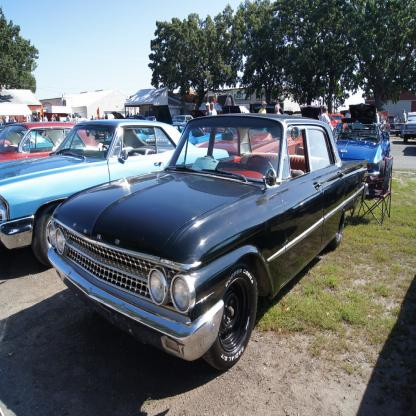Car: (1, 105, 416, 374), (1, 117, 228, 270), (334, 117, 398, 204), (1, 119, 111, 159), (198, 131, 312, 164), (400, 107, 416, 146), (332, 110, 353, 132), (323, 111, 339, 134)
